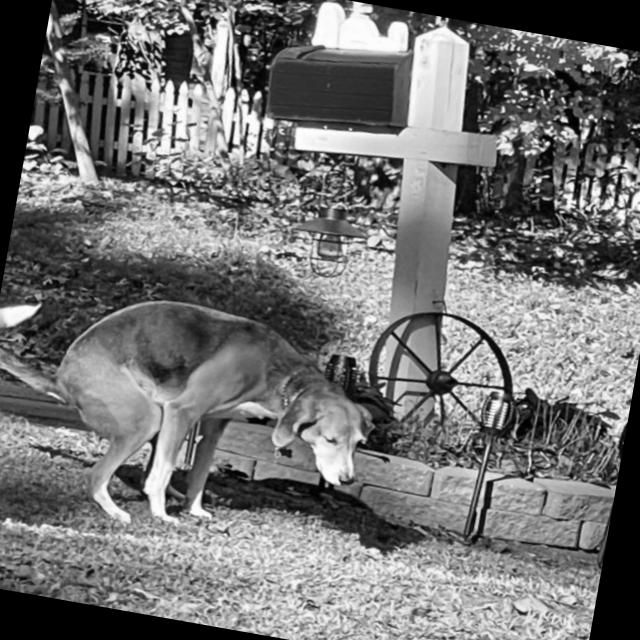squatting: (0, 261, 395, 566)
